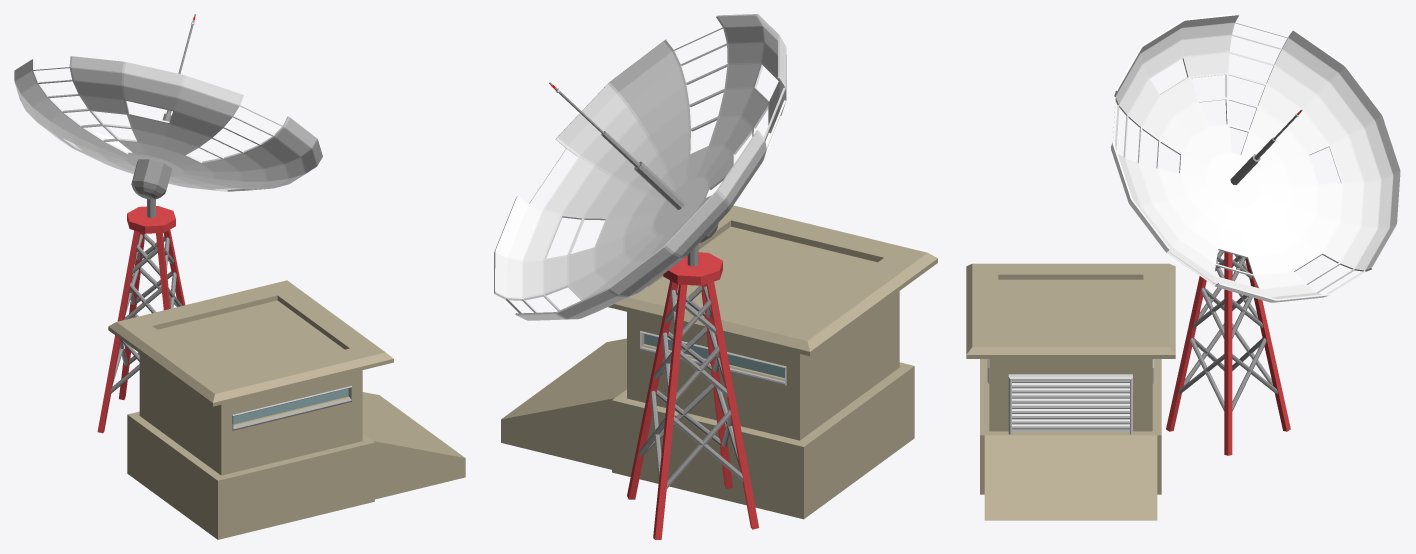
File: Repaishop_desert_005.glb
The picture shows the model from 3 angles, left to right: view 1: azimuth 30°, elevation 25°; view 2: azimuth 150°, elevation 25°; view 3: azimuth 270°, elevation 25°; orthographic projection. The views are drawn at different scales.
Visible parts, largest first — view 1: Repairshop_Desert_001, Satelite_Dish.003, Tower_Base; view 2: Repairshop_Desert_001, Satelite_Dish.003, Tower_Base; view 3: Satelite_Dish.003, Repairshop_Desert_001, Tower_Base.
Boxes of the visible parts, left/top/right/bottom form: Repairshop_Desert_001: left=108, top=280, right=465, bottom=539; Satelite_Dish.003: left=14, top=14, right=322, bottom=199; Tower_Base: left=97, top=199, right=185, bottom=433; Repairshop_Desert_001: left=501, top=205, right=937, bottom=519; Satelite_Dish.003: left=494, top=14, right=786, bottom=320; Tower_Base: left=627, top=244, right=758, bottom=539; Satelite_Dish.003: left=1110, top=14, right=1401, bottom=302; Repairshop_Desert_001: left=966, top=263, right=1175, bottom=520; Tower_Base: left=1166, top=250, right=1290, bottom=455.
Bounding box in the file's own units: 28.68 × 39.13 × 38.39.
